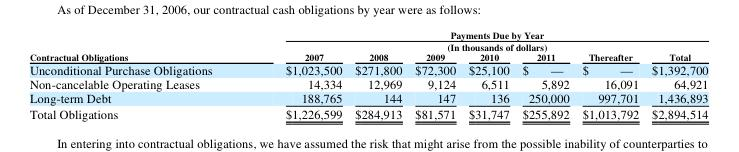table: (28, 29, 707, 120)
table column: (28, 29, 248, 120), (248, 29, 347, 120), (575, 29, 644, 120), (644, 29, 707, 120), (347, 29, 407, 120), (515, 29, 575, 120), (407, 29, 461, 120), (461, 29, 515, 120)
table column header: (28, 29, 707, 62)
table row: (28, 29, 707, 51), (28, 90, 707, 105), (28, 105, 707, 120), (28, 62, 707, 76), (28, 76, 707, 90), (28, 51, 707, 62)
table spanning cell: (248, 29, 707, 51), (28, 29, 248, 62)
